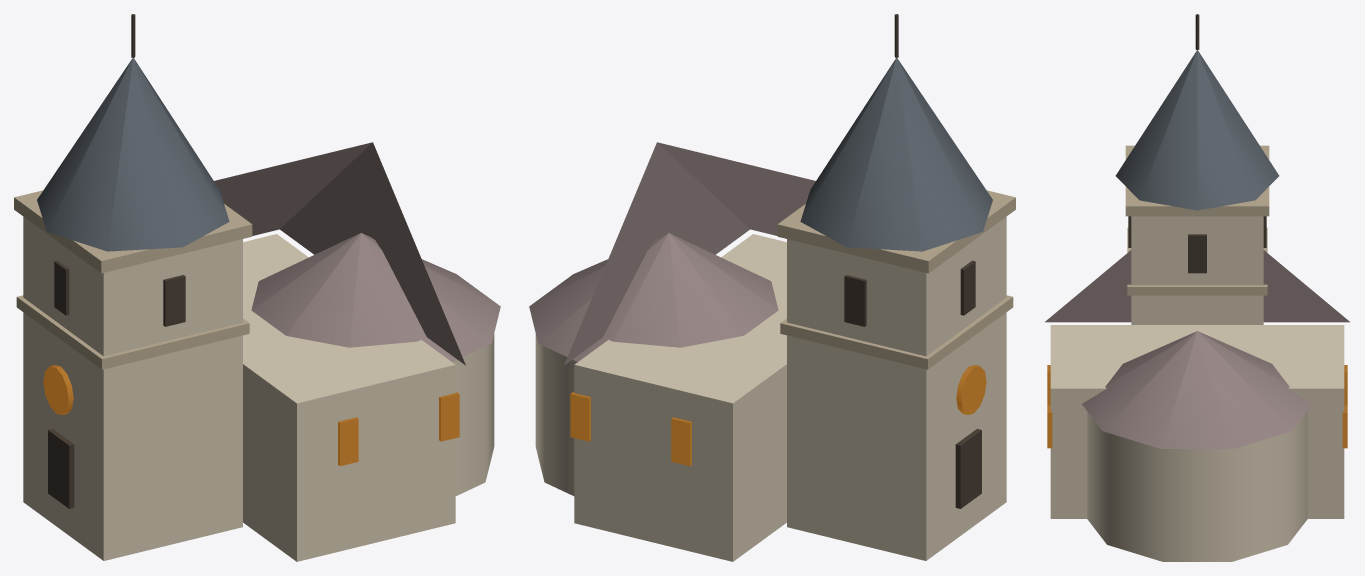
The model's file is monastere-des-clarisses-capucines-2.glb.
The picture shows the model from 3 angles, left to right: view 1: azimuth 30°, elevation 25°; view 2: azimuth 150°, elevation 25°; view 3: azimuth 270°, elevation 25°; orthographic projection. The views are drawn at different scales.
Parts seen in each view (by area): view 1: Monastère des Clarisses Capucines; view 2: Monastère des Clarisses Capucines; view 3: Monastère des Clarisses Capucines.
Boxes of the visible parts, bbox=[...] form: Monastère des Clarisses Capucines: bbox=[14, 14, 500, 561]; Monastère des Clarisses Capucines: bbox=[529, 14, 1015, 561]; Monastère des Clarisses Capucines: bbox=[1045, 14, 1349, 561].
Bounding box in the file's own units: 25.66 × 28.38 × 19.19.
